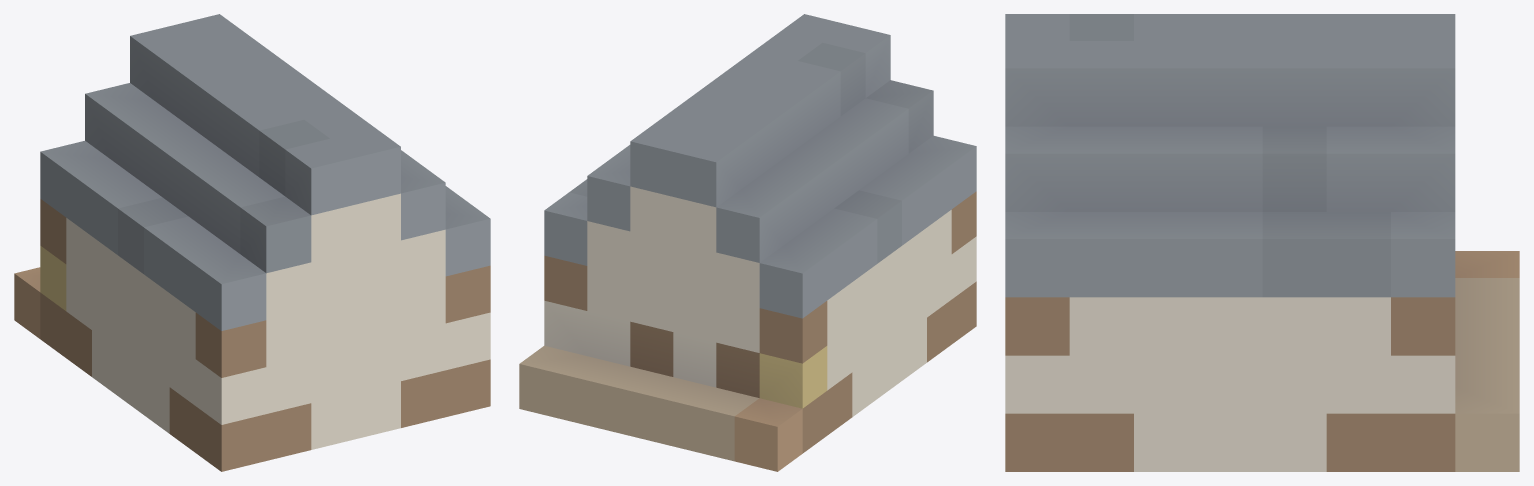
File: woad_farm.lite.glb
3 renders of one model, left to right at view 1: azimuth 30°, elevation 25°; view 2: azimuth 150°, elevation 25°; view 3: azimuth 270°, elevation 25°, orthographic. The views are drawn at different scales.
Parts seen in each view (by area): view 1: woad_farm; view 2: woad_farm; view 3: woad_farm.
Boxes of the visible parts, <box> form: woad_farm: <box>14,14,490,471</box>; woad_farm: <box>519,14,976,471</box>; woad_farm: <box>1005,14,1519,471</box>.
Size of the model in its own units: 3 by 3 by 4.
